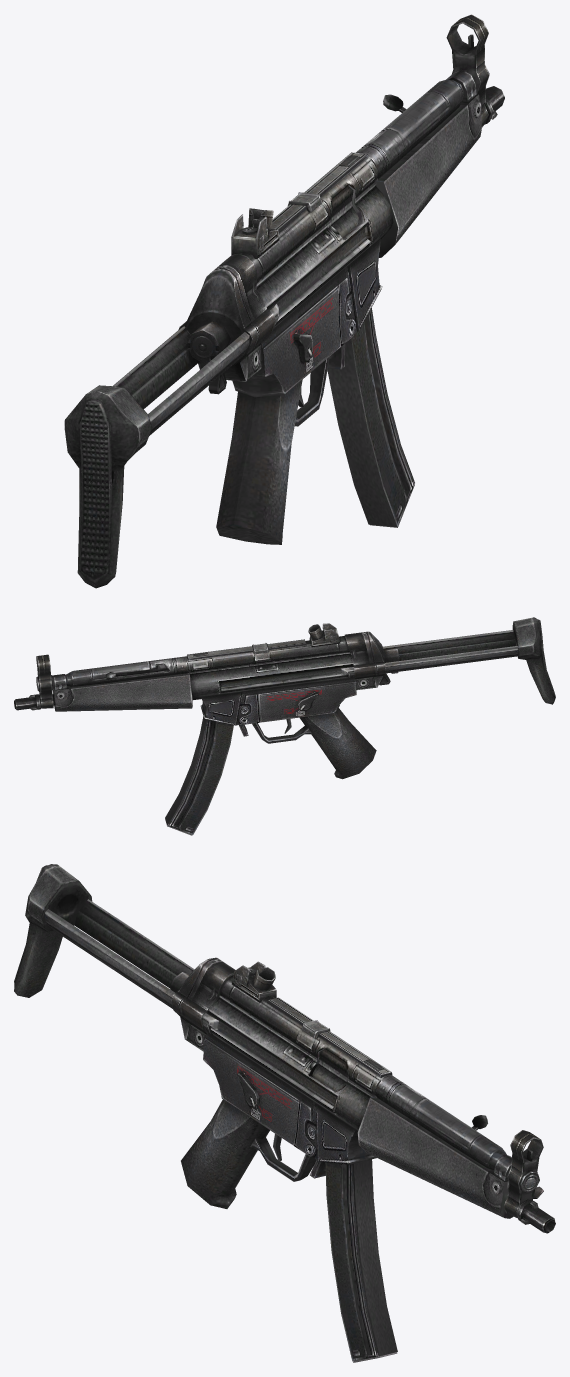
3 renders of one model, top to bottom at view 1: azimuth 30°, elevation 25°; view 2: azimuth 150°, elevation 25°; view 3: azimuth 270°, elevation 25°, orthographic. The views are drawn at different scales.
Parts seen in each view (by area): view 1: Object_2; view 2: Object_2; view 3: Object_2.
Boxes of the visible parts, box(x1,y1,x2,y2) form: Object_2: box(64, 14, 504, 588); Object_2: box(14, 617, 555, 835); Object_2: box(14, 864, 555, 1362).
Size of the model in its own units: 61.58 by 32.2 by 49.26.
1 material, 1 textured.
